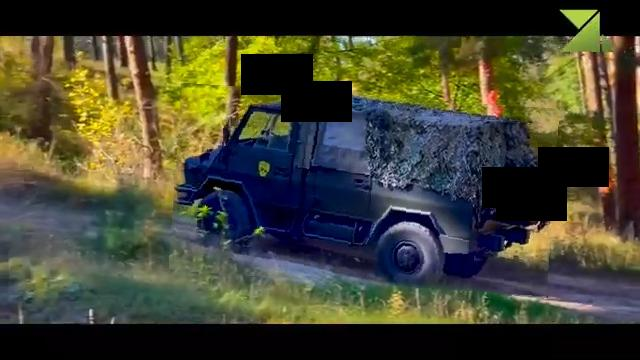MIL_HMMWV: (172, 90, 557, 290)
